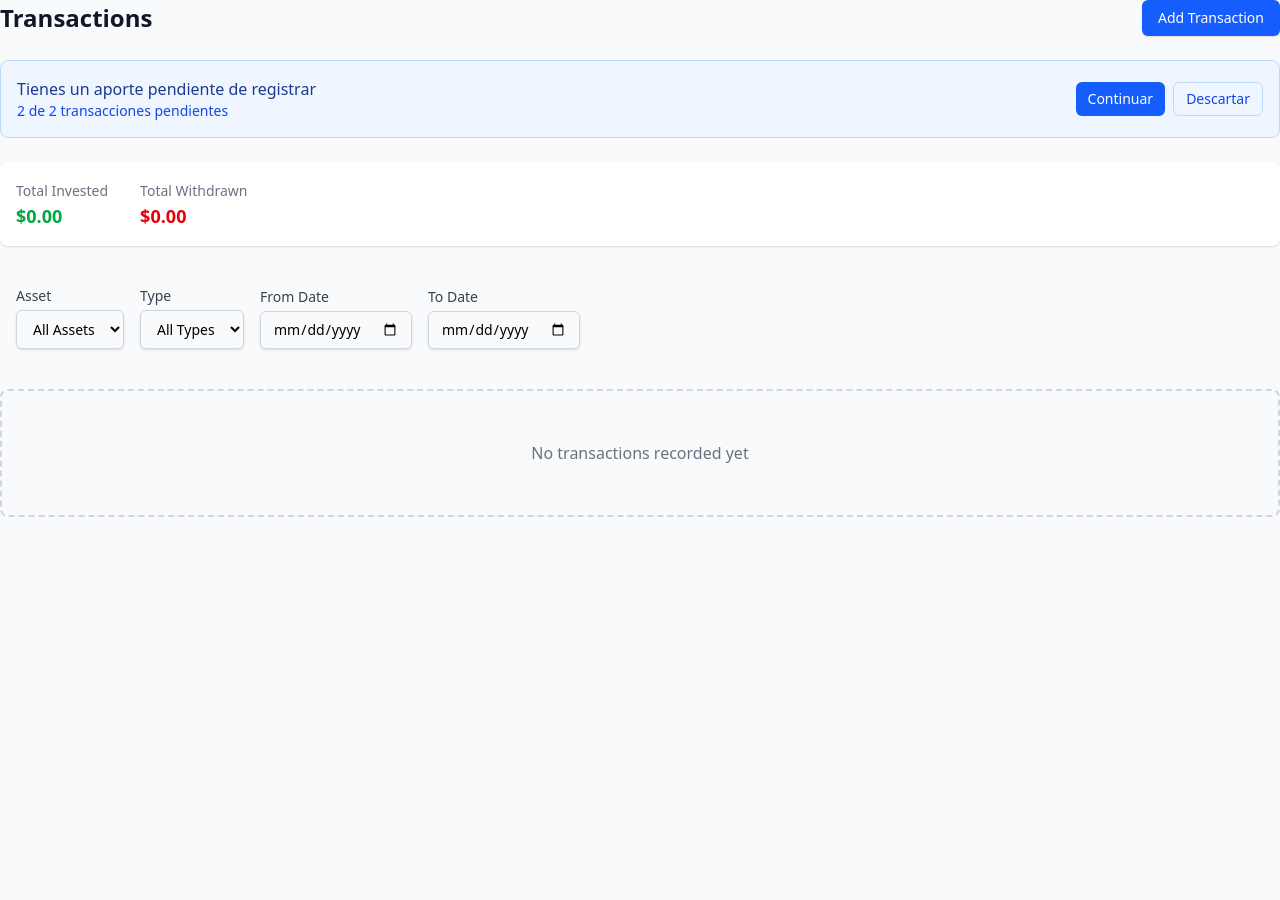
Test case: TransactionsPage › Pending Contribution Banner › should show confirmation dialog when Discard is clicked
This screenshot has width=1280, height=900.
Click the button "Descartar": (1218, 99) [1173, 82, 1263, 116]
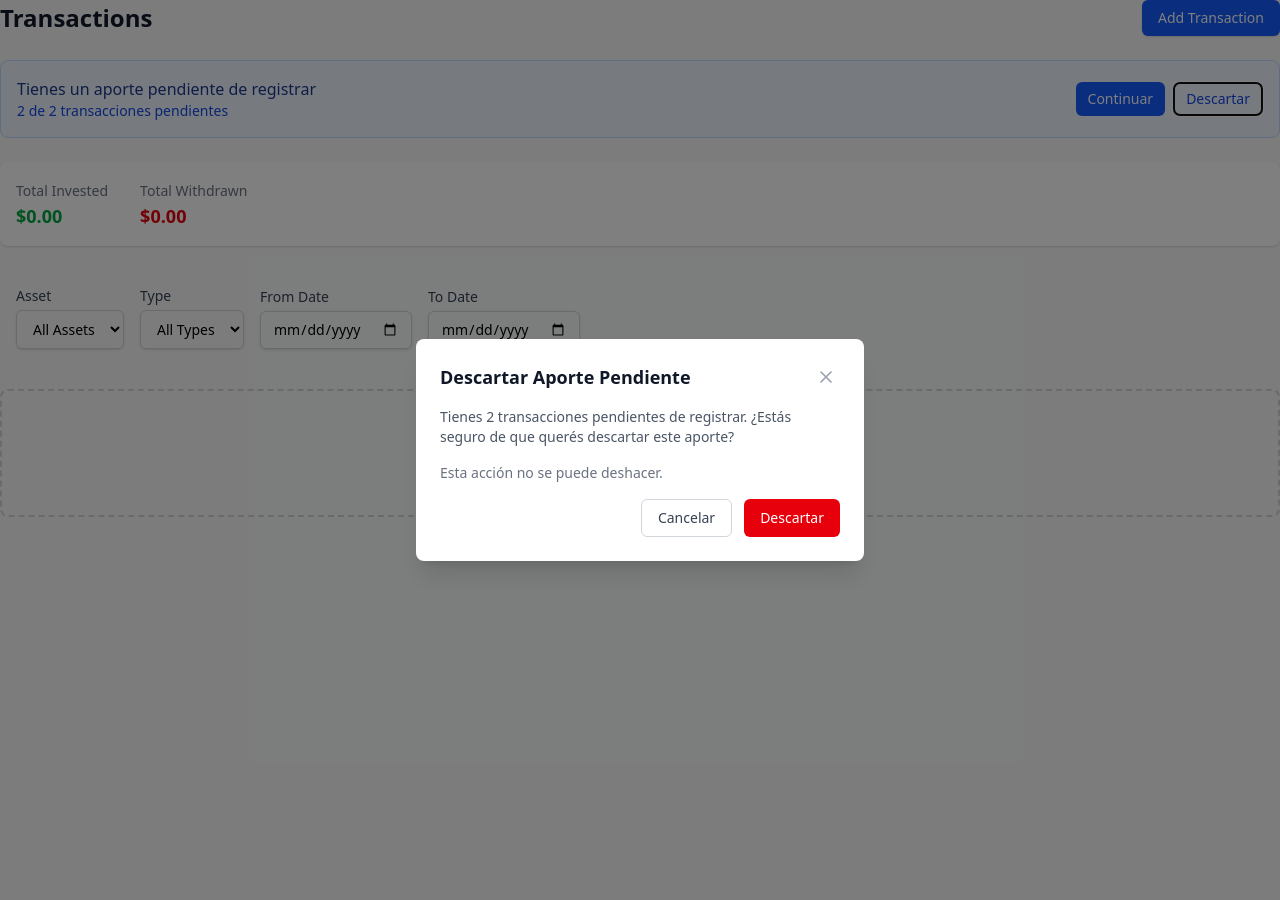
Expected: the text "transacciones pendientes de registrar" is shown, [440, 407, 791, 446]
